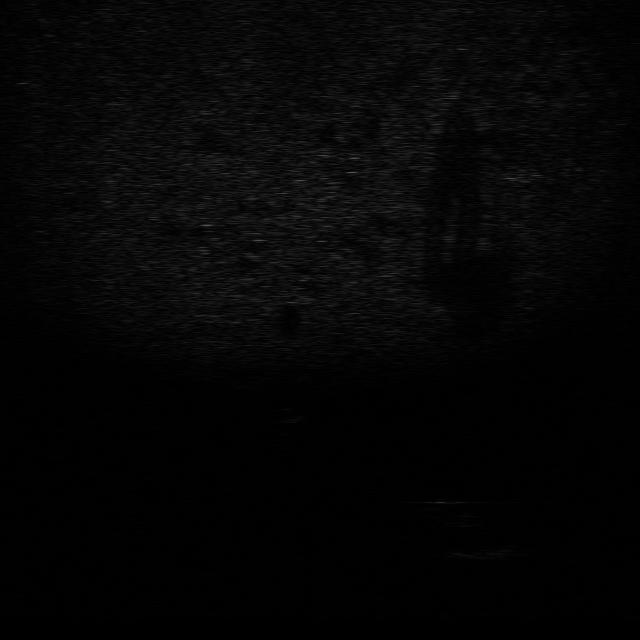ball: (272, 405, 308, 425)
metal bucket: (438, 542, 520, 565)
tyre: (418, 497, 488, 528)
